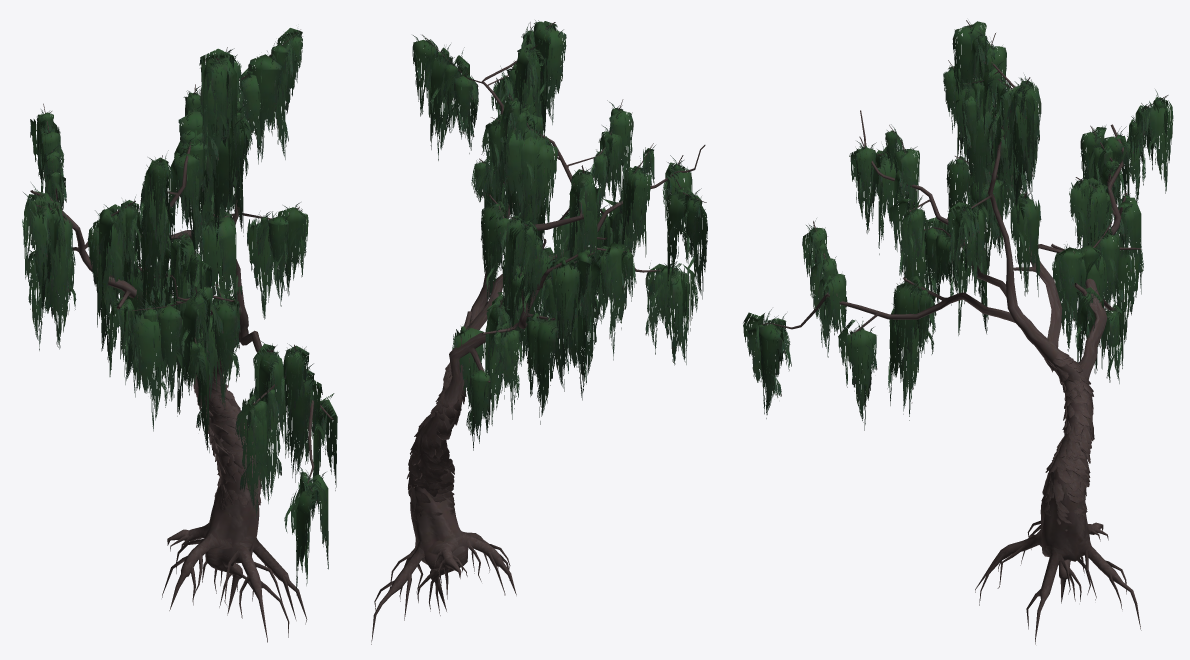
3 views of the same model, side by side, from view 1: azimuth 30°, elevation 25°; view 2: azimuth 150°, elevation 25°; view 3: azimuth 270°, elevation 25° (orthographic). The views are drawn at different scales.
Visible parts, largest first — view 1: SM_SwampTree_04_LOD0; view 2: SM_SwampTree_04_LOD0; view 3: SM_SwampTree_04_LOD0.
Part boxes in pixels (x1,y1,x2,y2): SM_SwampTree_04_LOD0: [22, 28, 337, 642]; SM_SwampTree_04_LOD0: [371, 20, 707, 644]; SM_SwampTree_04_LOD0: [743, 20, 1173, 644].
Bounding box in the file's own units: 7.12 × 16.88 × 11.64.
Materials: 2 (2 with a texture image).
